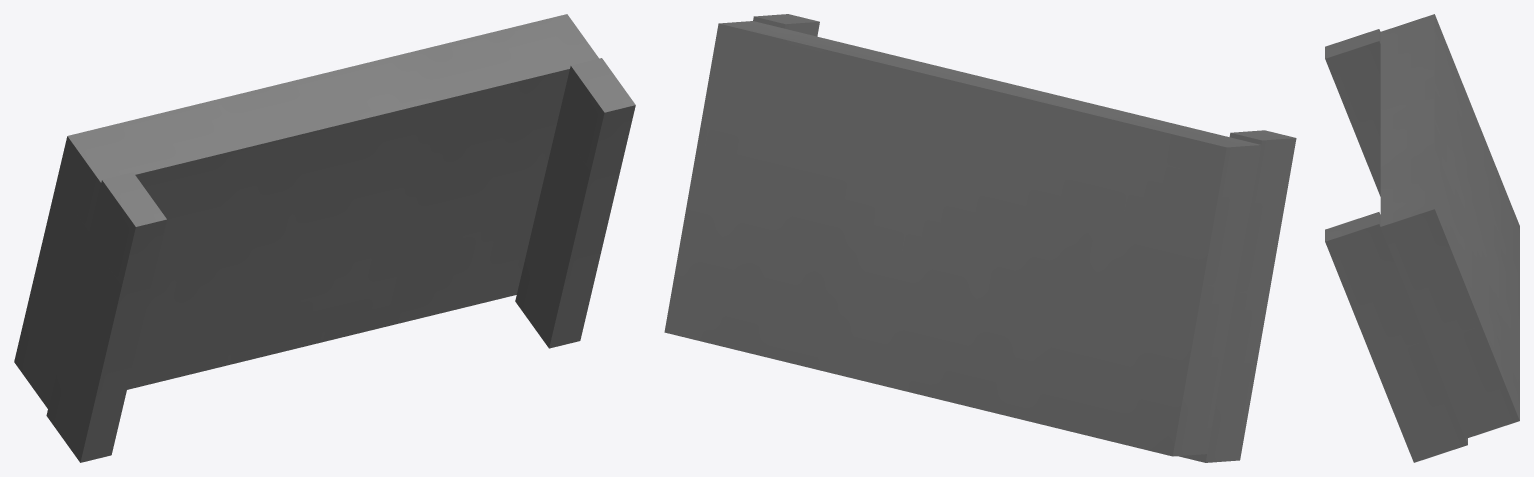
Rendered from dc_metro_arch_b6.obj.
3 renders of one model, left to right at view 1: azimuth 30°, elevation 25°; view 2: azimuth 150°, elevation 25°; view 3: azimuth 270°, elevation 25°, orthographic. The views are drawn at different scales.
Visible parts, largest first — view 1: part6; view 2: part6; view 3: part6.
Part boxes in pixels (x1,y1,x2,y2): part6: [14, 14, 635, 462]; part6: [664, 14, 1296, 462]; part6: [1325, 14, 1519, 462].
Size of the model in its own units: 2 by 1.21 by 0.8439.
1 material, 1 textured.
